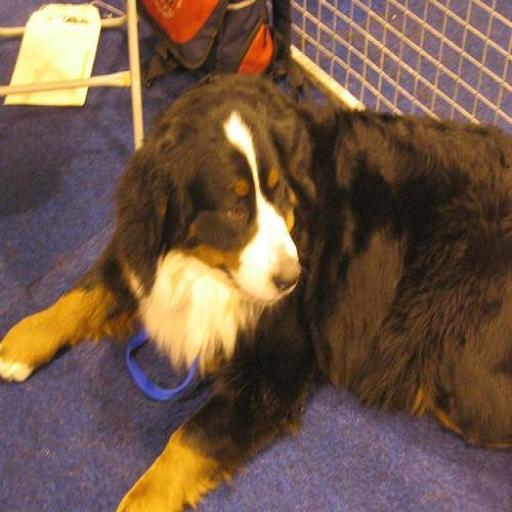dog_face: (122, 86, 308, 311)
